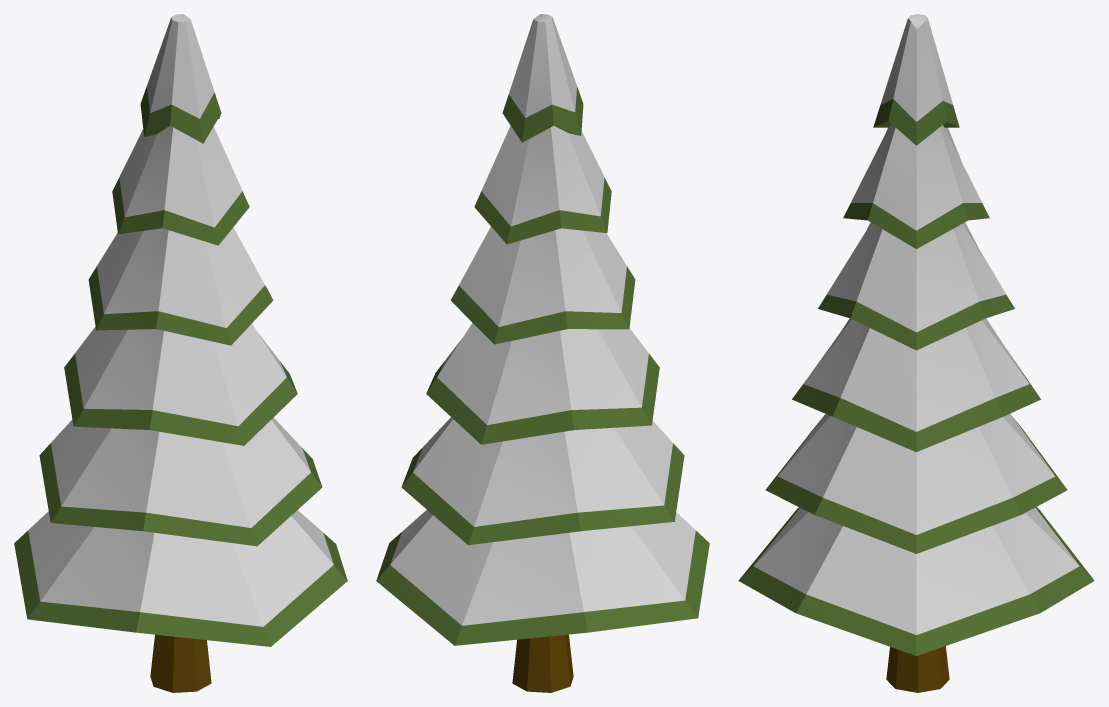
File: PineMod.fbx
3 views of the same model, side by side, from view 1: azimuth 30°, elevation 25°; view 2: azimuth 150°, elevation 25°; view 3: azimuth 270°, elevation 25° (orthographic).
Parts seen in each view (by area): view 1: Cylinder; view 2: Cylinder; view 3: Cylinder.
Boxes of the visible parts, x1,y1,x2,y2 form: Cylinder: [14, 14, 347, 692]; Cylinder: [376, 14, 709, 692]; Cylinder: [738, 14, 1094, 692].
Bounding box in the file's own units: 368 × 754 × 368.
